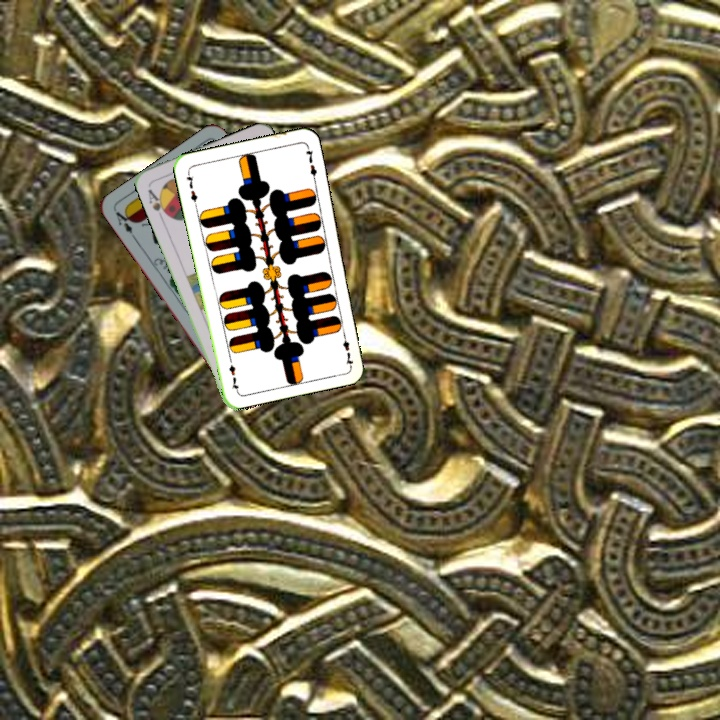E7: (338, 327, 356, 368), (182, 168, 200, 208)
EA: (112, 206, 139, 242)
SA: (144, 185, 172, 222)
